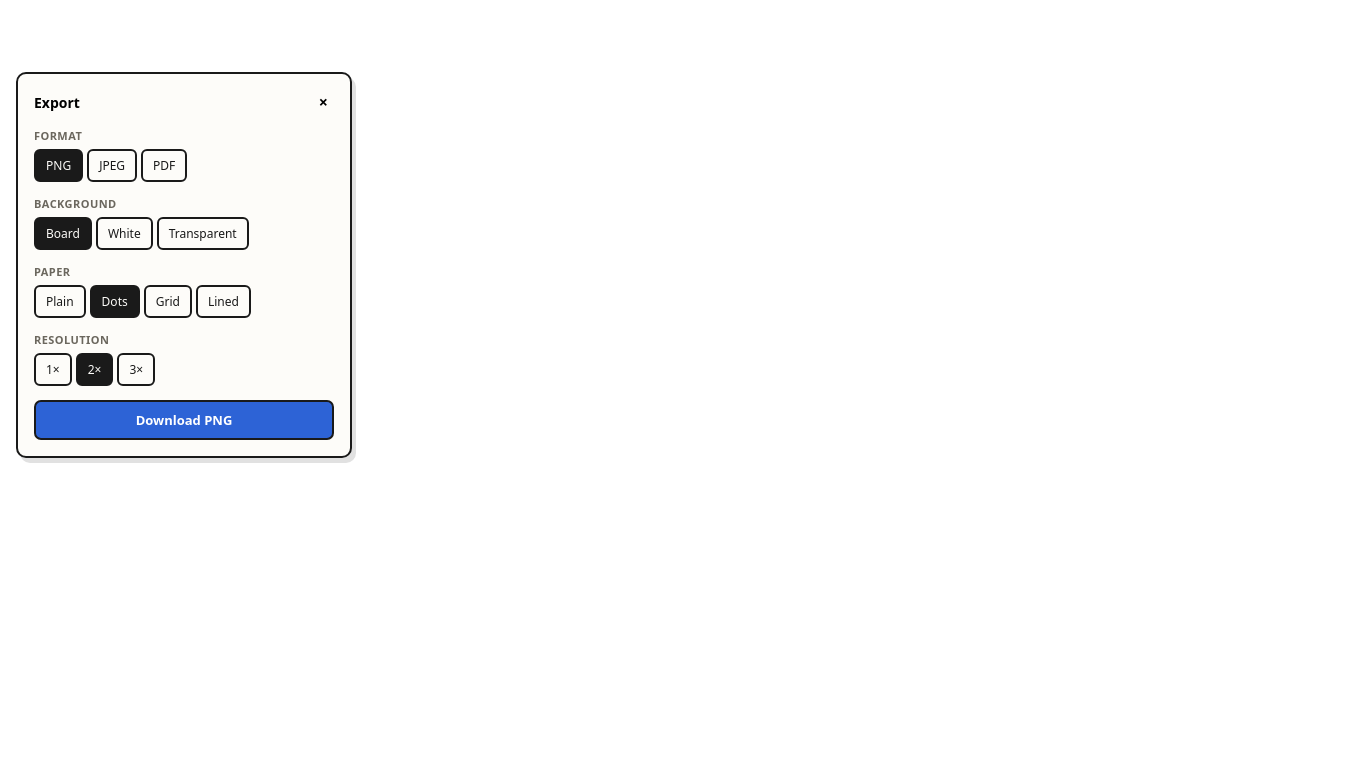
ExportDialog › offers a transparent background only for PNG
The image size is (1366, 768).
Expected: the radio button with test id "export-background-transparent" is enabled, [157, 217, 249, 250]
Click the radio button with test id "export-format-jpeg" at (112, 166), box [87, 149, 137, 182]
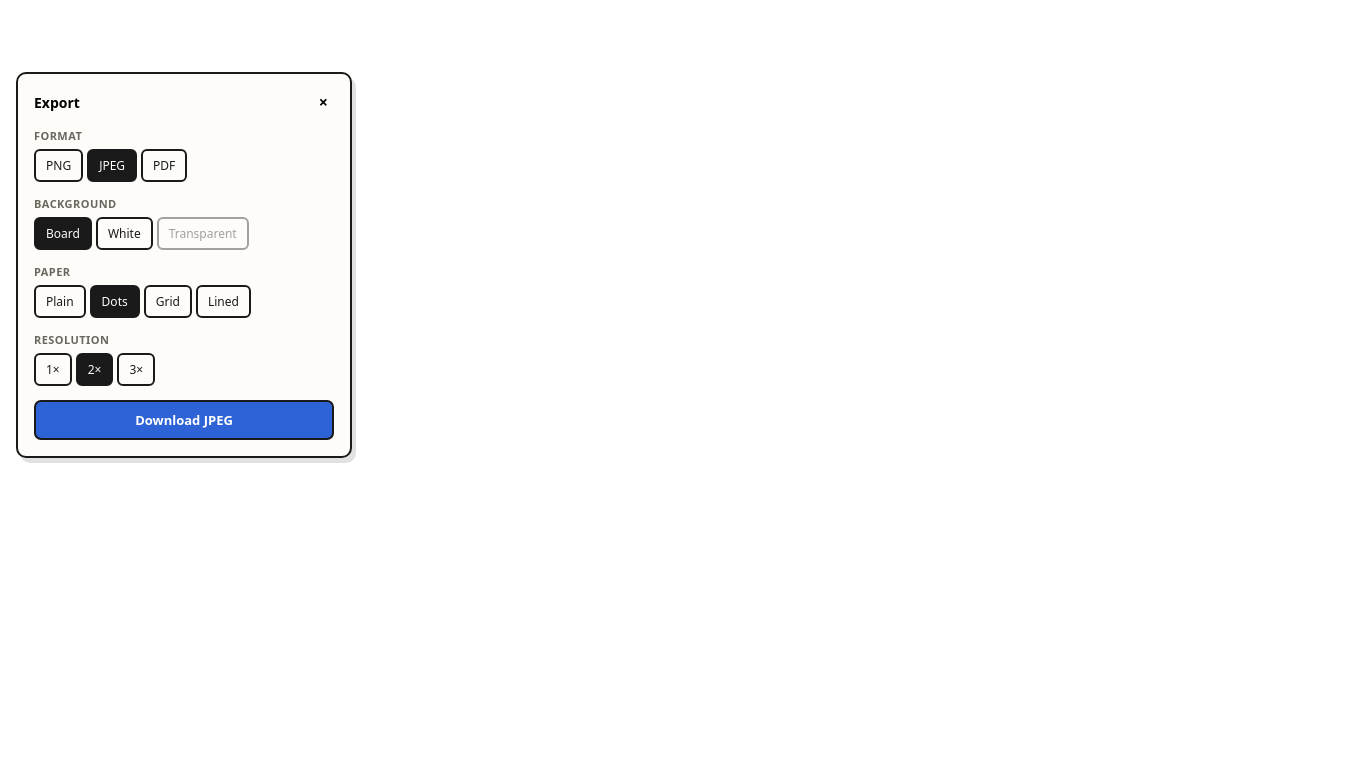
Expected: the radio button with test id "export-background-transparent" is disabled, [157, 217, 249, 250]
